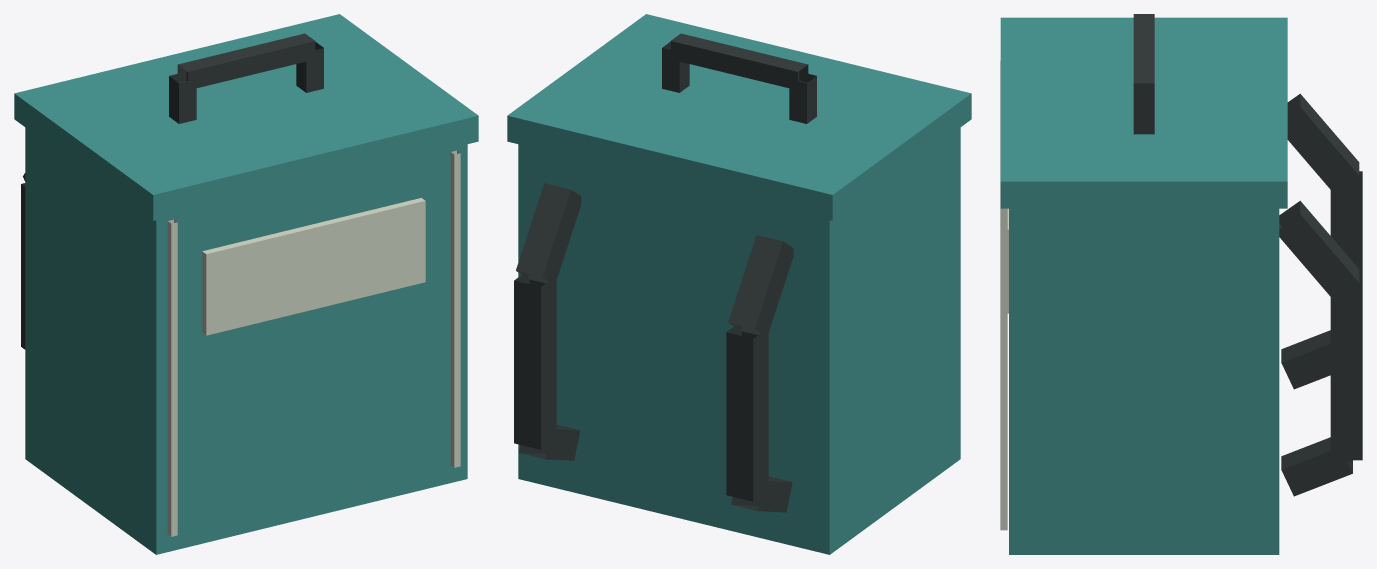
Rendered from tw_carry_food.glb.
3 views of the same model, side by side, from view 1: azimuth 30°, elevation 25°; view 2: azimuth 150°, elevation 25°; view 3: azimuth 270°, elevation 25° (orthographic). The views are drawn at different scales.
Parts seen in each view (by area): view 1: InsulatedFabric, ReflectivePiping, WovenBlackStrap; view 2: InsulatedFabric, WovenBlackStrap; view 3: InsulatedFabric, WovenBlackStrap, ReflectivePiping.
Part boxes in pixels (<box>): InsulatedFabric: <box>14,14,478,554</box>; ReflectivePiping: <box>167,150,460,536</box>; WovenBlackStrap: <box>21,33,323,349</box>; InsulatedFabric: <box>507,14,971,554</box>; WovenBlackStrap: <box>514,33,816,512</box>; InsulatedFabric: <box>1000,17,1287,554</box>; WovenBlackStrap: <box>1133,14,1362,496</box>; ReflectivePiping: <box>1000,61,1008,530</box>.
Bounding box in the file's own units: 0.46 × 0.5625 × 0.4295.
